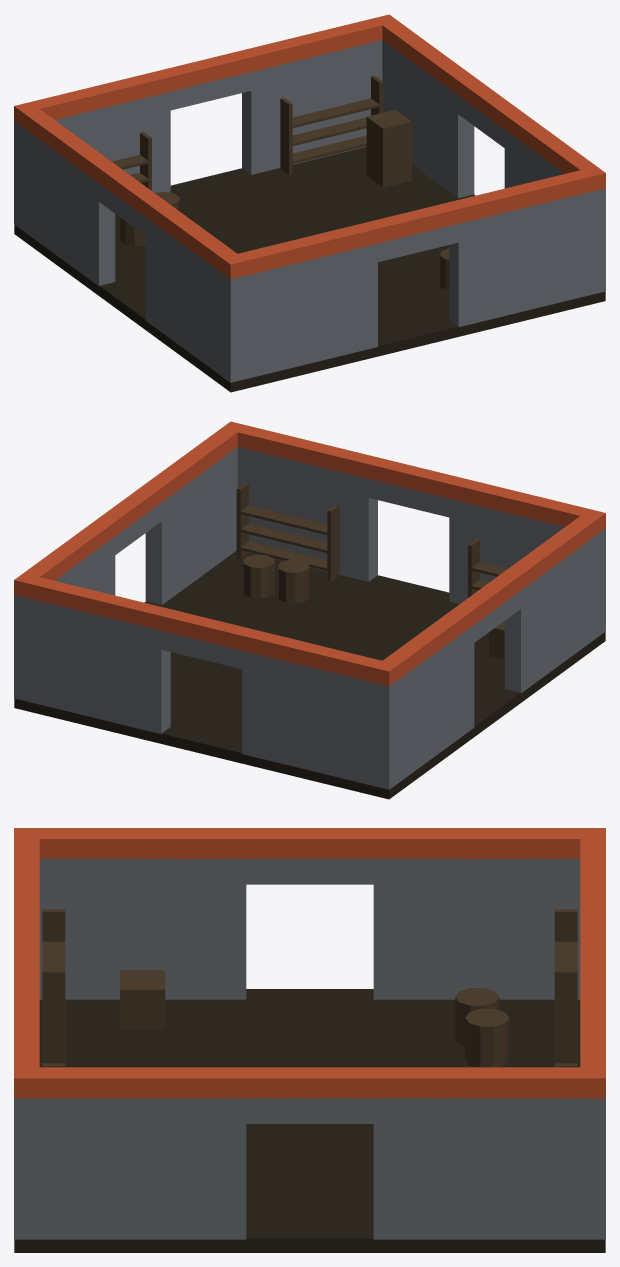
The model's file is StorehouseRoom.fbx.
The picture shows the model from 3 angles, top to bottom: view 1: azimuth 30°, elevation 25°; view 2: azimuth 150°, elevation 25°; view 3: azimuth 270°, elevation 25°; orthographic projection. The views are drawn at different scales.
Parts seen in each view (by area): view 1: StorehouseRoom; view 2: StorehouseRoom; view 3: StorehouseRoom.
Part boxes in pixels (left/top/right/bottom): StorehouseRoom: left=14, top=14, right=605, bottom=392; StorehouseRoom: left=14, top=421, right=605, bottom=799; StorehouseRoom: left=14, top=828, right=605, bottom=1252.
Bounding box in the file's own units: 1202 × 392 × 1202.
4 materials, 4 textured.
